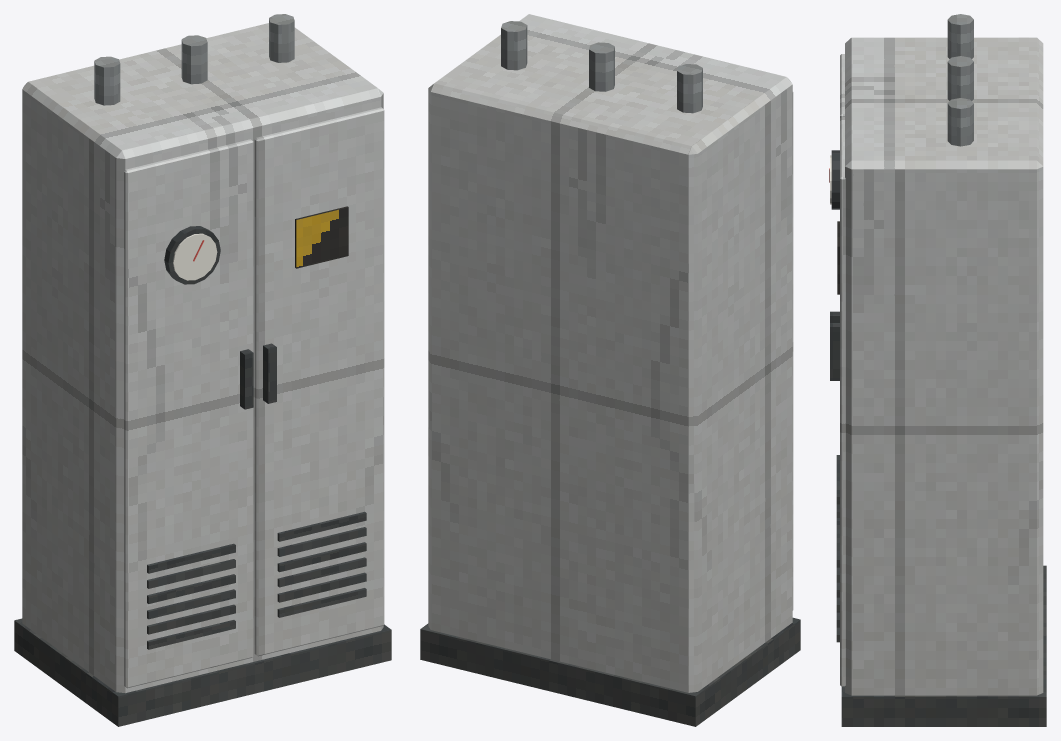
The model's file is electrical_cabinet.glb.
3 renders of one model, left to right at view 1: azimuth 30°, elevation 25°; view 2: azimuth 150°, elevation 25°; view 3: azimuth 270°, elevation 25°, orthographic. The views are drawn at different scales.
Parts seen in each view (by area): view 1: body; view 2: body; view 3: body.
Part boxes in pixels (x1,y1,x2,y2): body: [14, 14, 391, 726]; body: [420, 14, 800, 726]; body: [829, 14, 1046, 726].
Bounding box in the file's own units: 0.94 × 2 × 0.6575.
6 materials, 4 textured.
